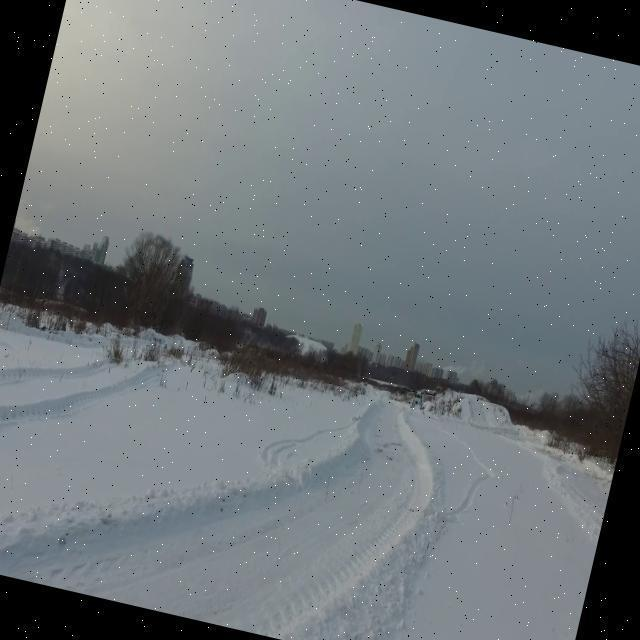Drons: (388, 372, 444, 422)
